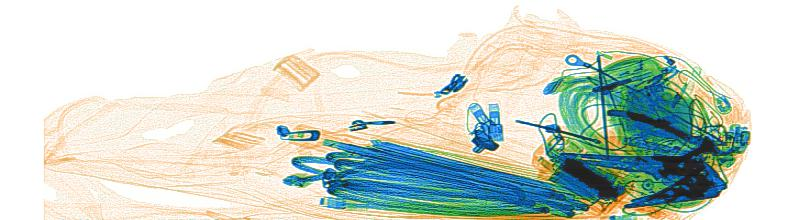battery: (530, 128, 632, 212)
